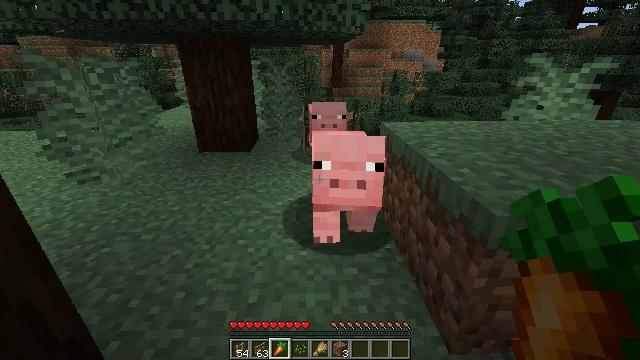pig: (313, 130, 385, 245), (308, 103, 347, 151)
